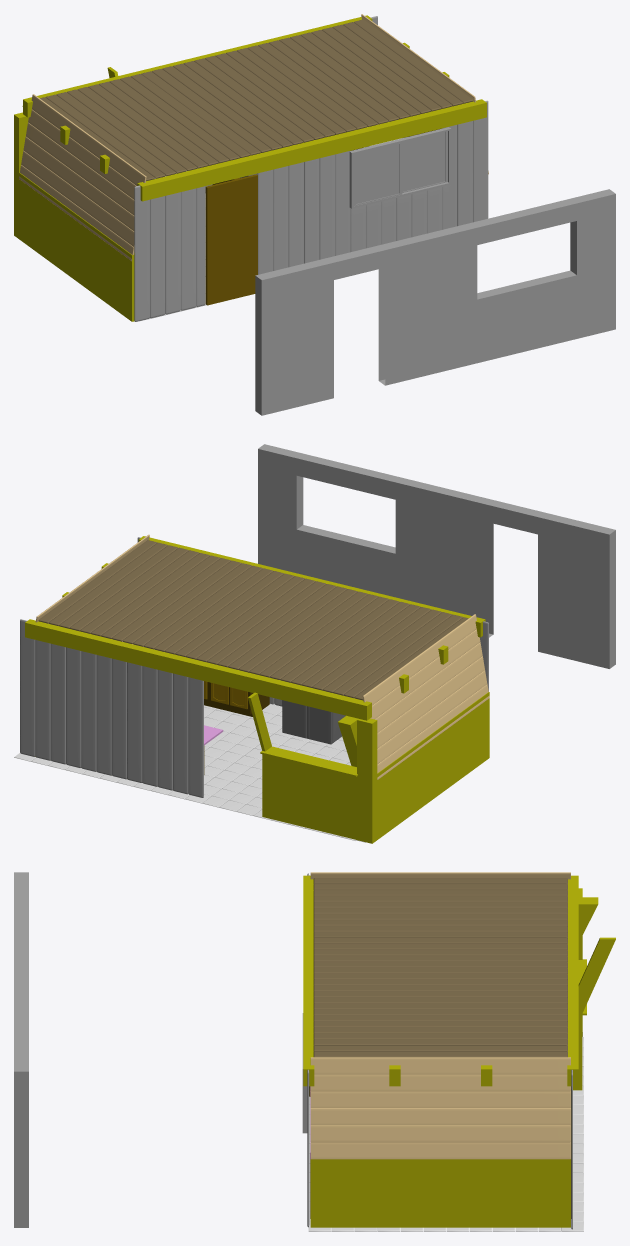
The model's file is victorias kitchen.fbx.
The picture shows the model from 3 angles, top to bottom: view 1: azimuth 30°, elevation 25°; view 2: azimuth 150°, elevation 25°; view 3: azimuth 270°, elevation 25°; orthographic projection. The views are drawn at different scales.
Visible parts, largest first — view 1: pCube18, pCube114, polySurface97, polySurface59, polySurface41, pCube6, pCube142, polySurface47; view 2: pCube18, pCube114, polySurface59, pCube155, polySurface41, pCube136, pCube137, polySurface51, polySurface3, polySurface21, pPlane22, polySurface47 (+1 smaller); view 3: pCube114, polySurface47, polySurface59, pCube18, pCube138, polySurface41, pCube137, pCube136.
Part boxes in pixels (x1=…): pCube18: x1=255, y1=189, x2=615, y2=415; pCube114: x1=40, y1=19, x2=473, y2=180; polySurface97: x1=134, y1=100, x2=488, y2=321; polySurface59: x1=14, y1=15, x2=486, y2=321; polySurface41: x1=19, y1=94, x2=146, y2=261; pCube6: x1=205, y1=174, x2=257, y2=305; pCube142: x1=349, y1=127, x2=451, y2=208; polySurface47: x1=361, y1=14, x2=488, y2=174; pCube18: x1=258, y1=444, x2=615, y2=668; pCube114: x1=38, y1=540, x2=468, y2=700; polySurface59: x1=25, y1=536, x2=489, y2=843; pCube155: x1=20, y1=619, x2=203, y2=797; polySurface41: x1=362, y1=614, x2=489, y2=779; pCube136: x1=185, y1=728, x2=349, y2=820; pCube137: x1=99, y1=704, x2=282, y2=799; polySurface51: x1=282, y1=685, x2=354, y2=744; polySurface3: x1=90, y1=633, x2=247, y2=709; polySurface21: x1=69, y1=628, x2=269, y2=775; pPlane22: x1=32, y1=704, x2=365, y2=842; polySurface47: x1=35, y1=534, x2=149, y2=623; pCube114: x1=313, y1=878, x2=567, y2=1057; polySurface47: x1=310, y1=1057, x2=570, y2=1159; polySurface59: x1=303, y1=875, x2=615, y2=1227; pCube18: x1=14, y1=872, x2=28, y2=1227; pCube138: x1=308, y1=1182, x2=583, y2=1231; polySurface41: x1=310, y1=872, x2=570, y2=879; pCube137: x1=309, y1=1134, x2=583, y2=1182; pCube136: x1=309, y1=1085, x2=583, y2=1133.
Size of the model in its own units: 256 by 96.66 by 321.
